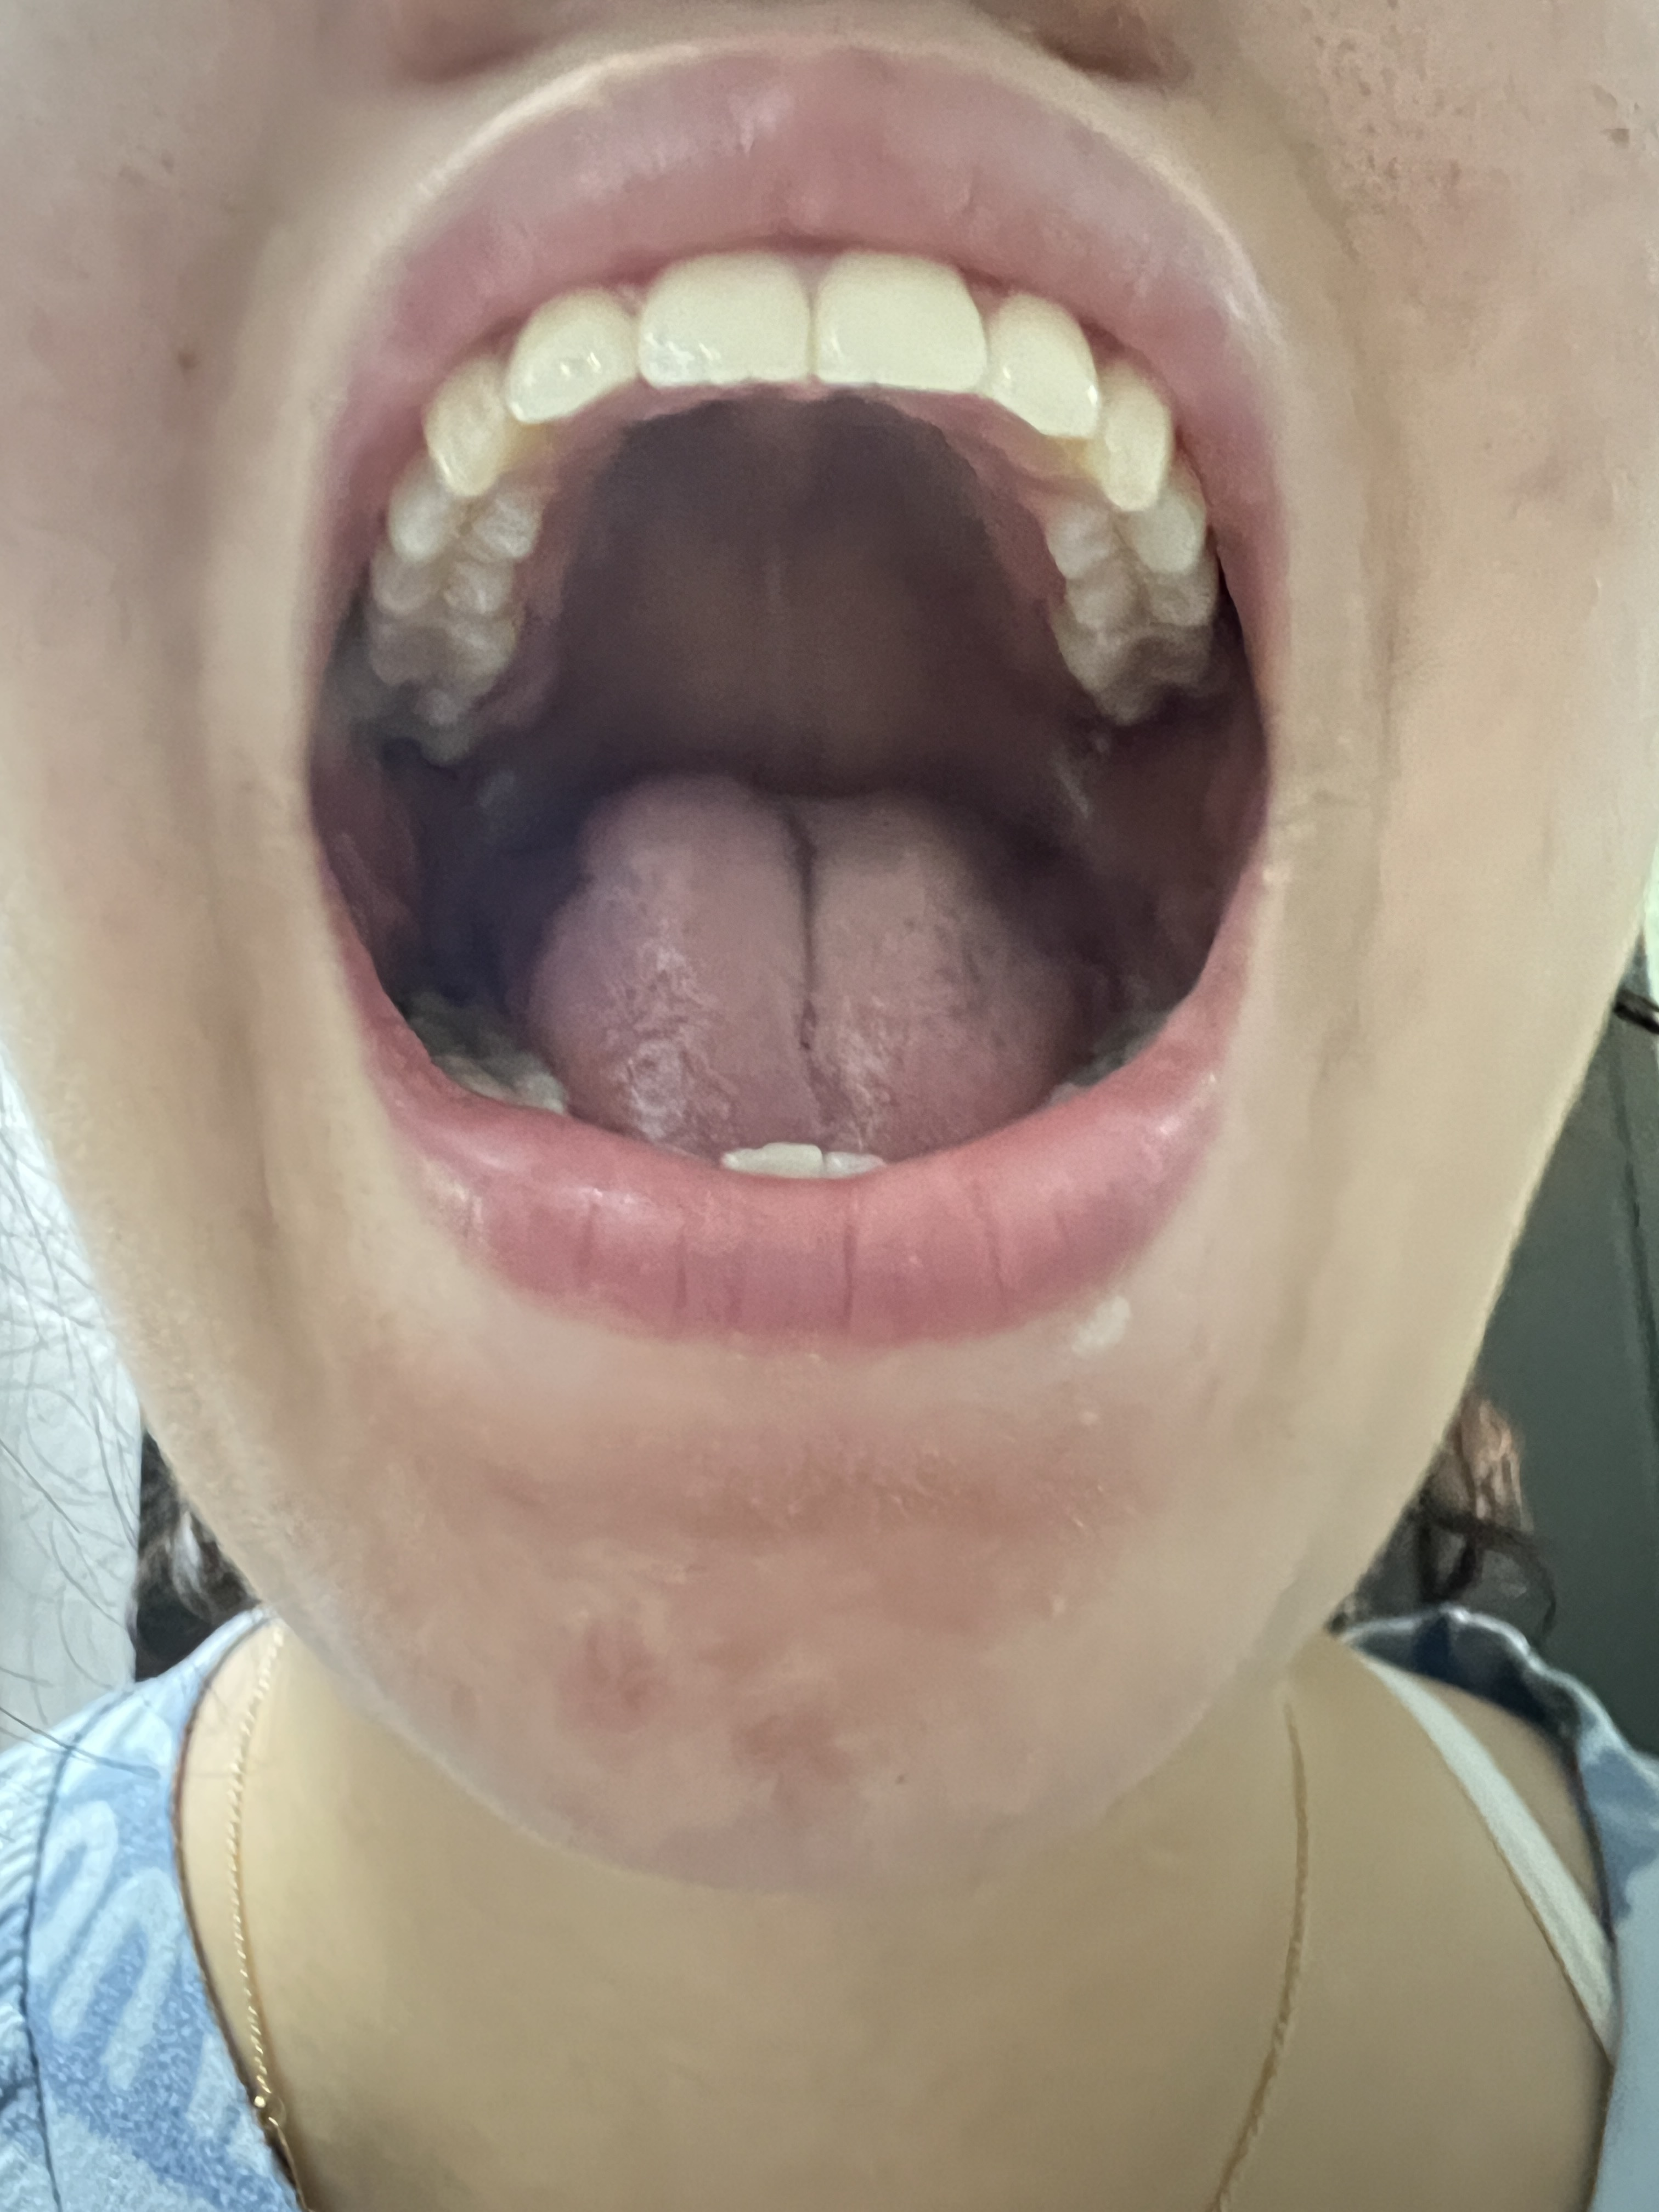teeth: (814, 237, 985, 387), (640, 249, 816, 392), (429, 347, 572, 502), (1049, 469, 1209, 589), (505, 286, 636, 423), (983, 289, 1098, 437), (383, 462, 547, 561), (1051, 627, 1199, 733), (1087, 357, 1175, 509), (361, 620, 516, 695), (369, 545, 516, 620), (1072, 564, 1220, 634), (354, 691, 481, 766)
